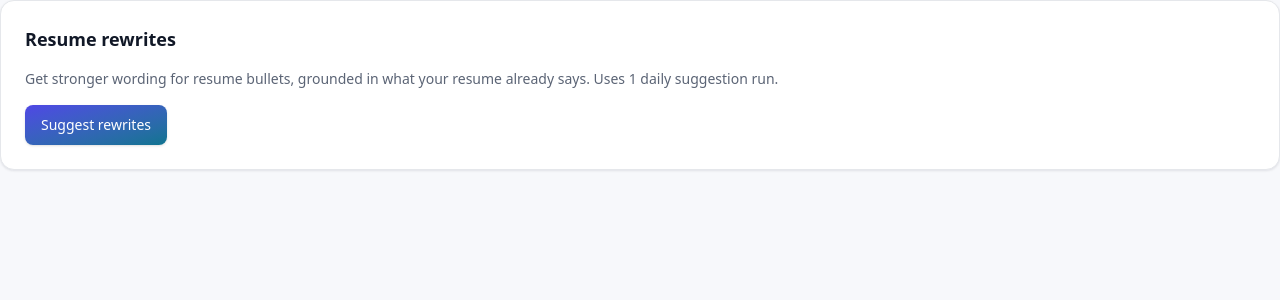
Test: Suggestions › streams from /api/stream/suggestions when Suggest rewrites is clicked on a 404
What coordinates should you click on to do the following:
click the button "Suggest rewrites"
I would click on:
 (96, 125)
Its box is [25,105,167,145].
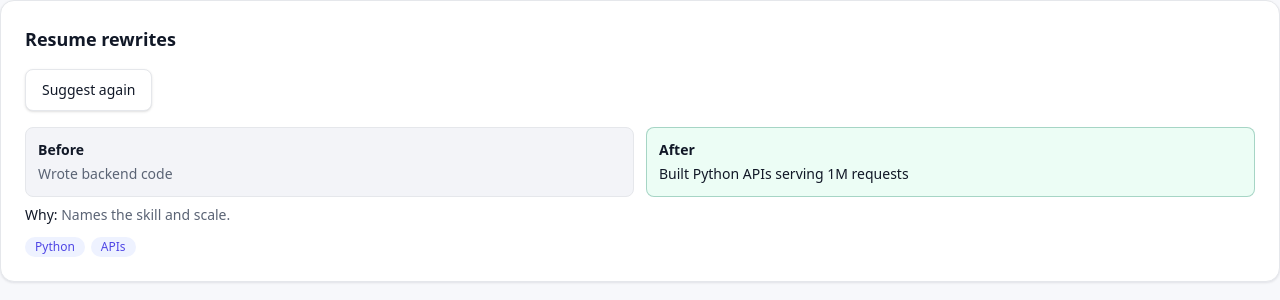
Result: the text "Wrote backend code" is shown at [38,164,173,183]
